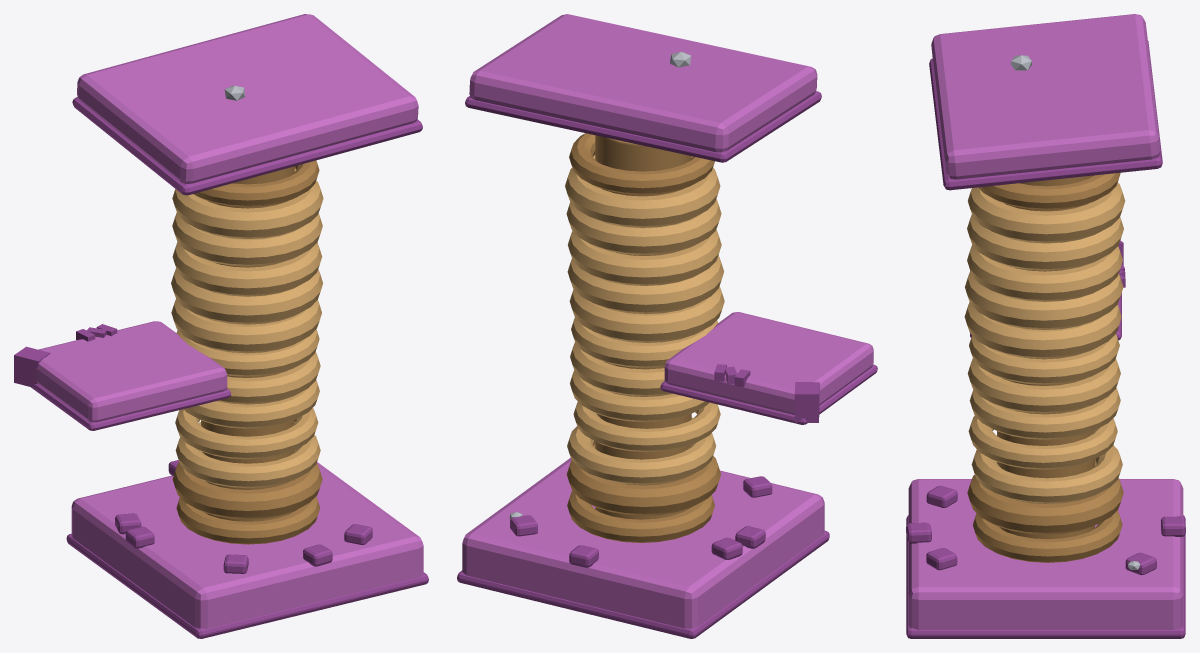
The model's file is zc_scratch_post_ruin.mobile-mid.glb.
3 renders of one model, left to right at view 1: azimuth 30°, elevation 25°; view 2: azimuth 150°, elevation 25°; view 3: azimuth 270°, elevation 25°, orthographic. The views are drawn at different scales.
Visible parts, largest first — view 1: zc_scratch_post_ruin; view 2: zc_scratch_post_ruin; view 3: zc_scratch_post_ruin.
Boxes of the visible parts, left/top/right/bottom form: zc_scratch_post_ruin: left=14, top=14, right=428, bottom=638; zc_scratch_post_ruin: left=457, top=14, right=877, bottom=638; zc_scratch_post_ruin: left=906, top=14, right=1185, bottom=638.
Bounding box in the file's own units: 0.8115 × 1.16 × 0.5708.
Materials: 1 (1 with a texture image).
